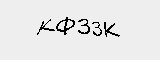З: (78, 16, 92, 38), (90, 19, 104, 39)
К: (101, 20, 122, 40), (36, 18, 54, 38)
Ф: (56, 16, 76, 34)
